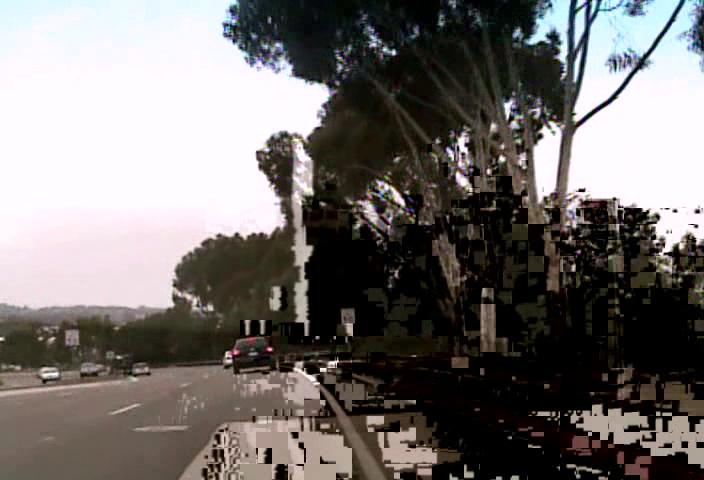speedLimitUrdbl: (64, 328, 79, 347)
